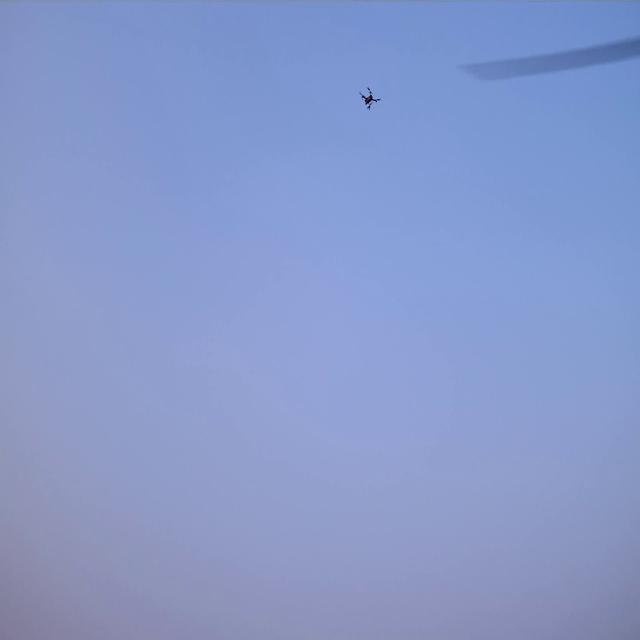UAV: (361, 88, 379, 110)
